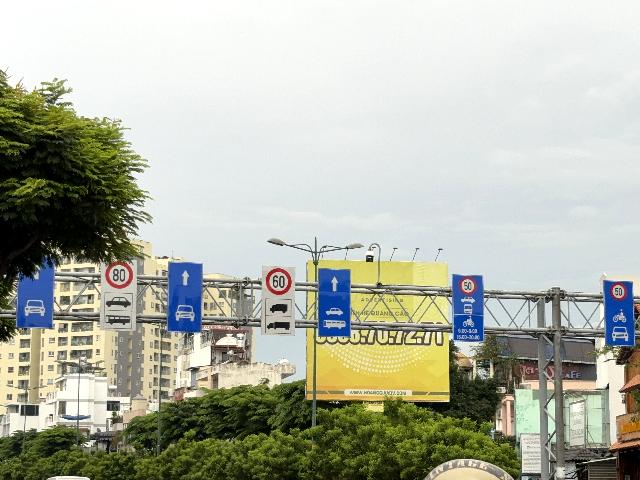toc-do-toi-da-cho-phep: (105, 261, 133, 290), (265, 268, 292, 295), (609, 281, 628, 300), (459, 276, 477, 295)
